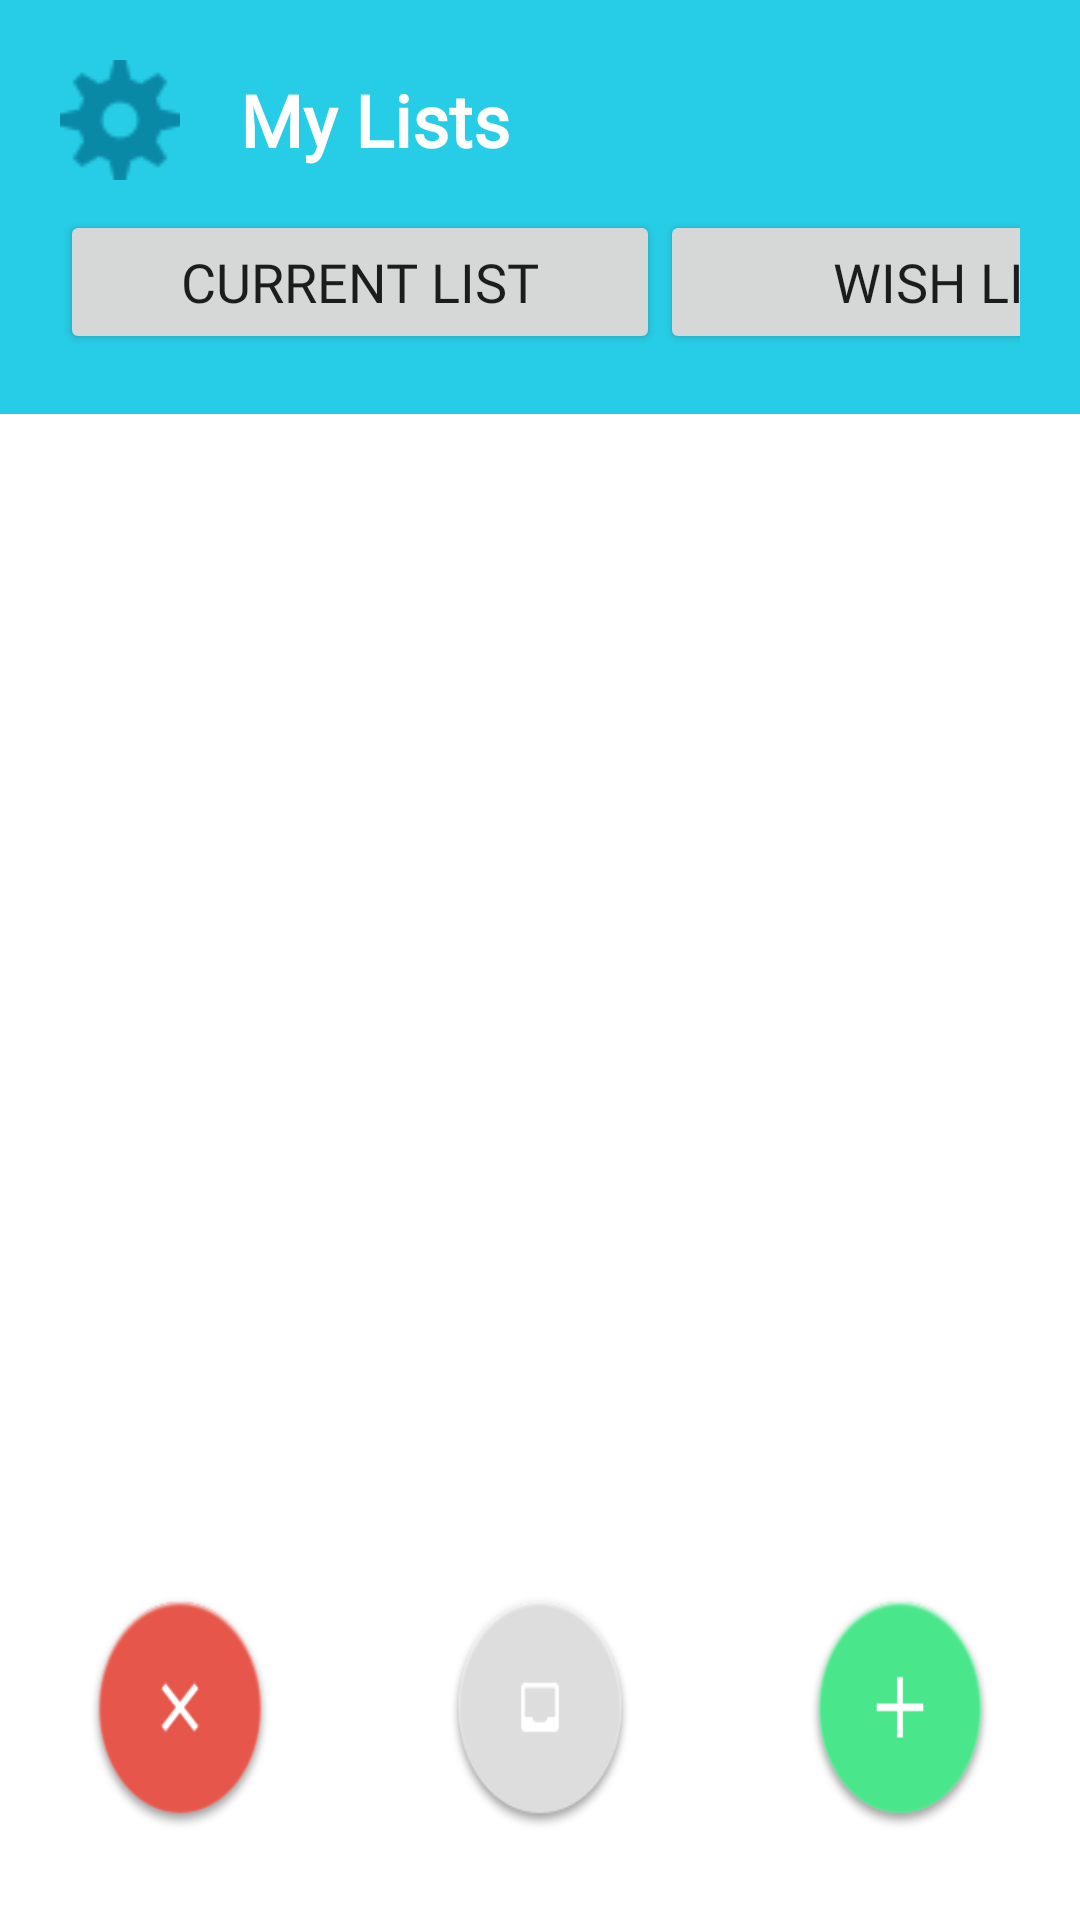

Icon click points for this 1080px x 1920px phone screenshot, format (x=x, y=y):
add: (x=900, y=1711)
cog: (x=120, y=120)
delete: (x=180, y=1711)
